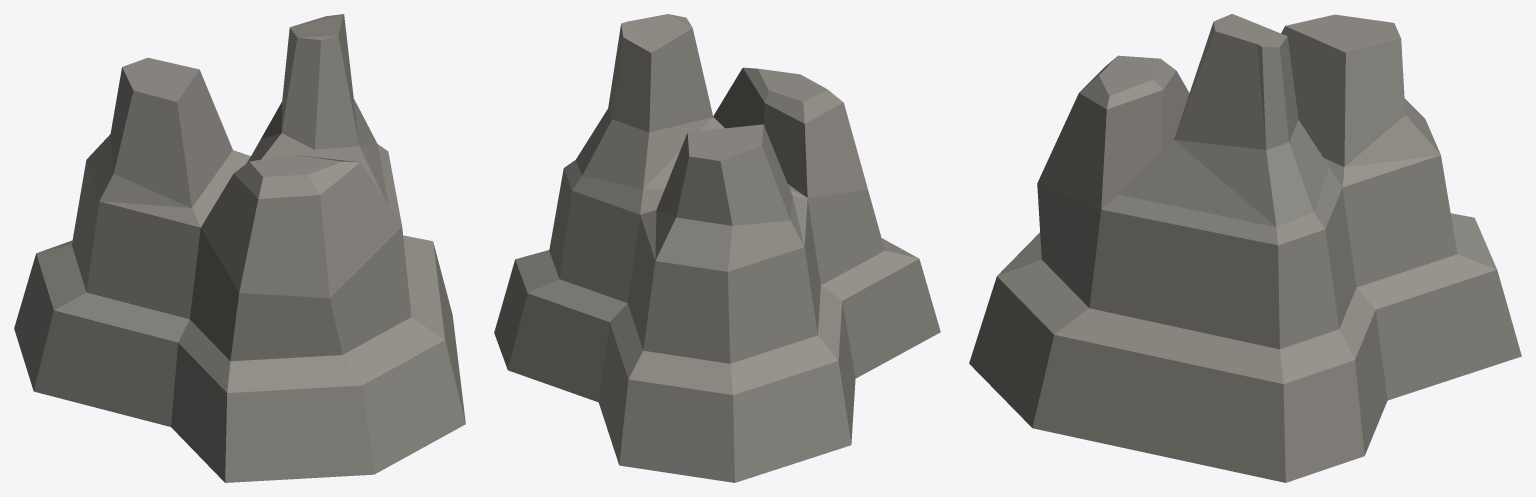
The model's file is Rock_Round_l_07.fbx.
3 renders of one model, left to right at view 1: azimuth 30°, elevation 25°; view 2: azimuth 150°, elevation 25°; view 3: azimuth 270°, elevation 25°, orthographic. The views are drawn at different scales.
Parts seen in each view (by area): view 1: Rock_Round_l_07; view 2: Rock_Round_l_07; view 3: Rock_Round_l_07.
Boxes of the visible parts, x1,y1,x2,y2 form: Rock_Round_l_07: [14, 14, 465, 482]; Rock_Round_l_07: [494, 14, 940, 482]; Rock_Round_l_07: [969, 14, 1521, 482].
Bounding box in the file's own units: 237 × 196 × 263.
